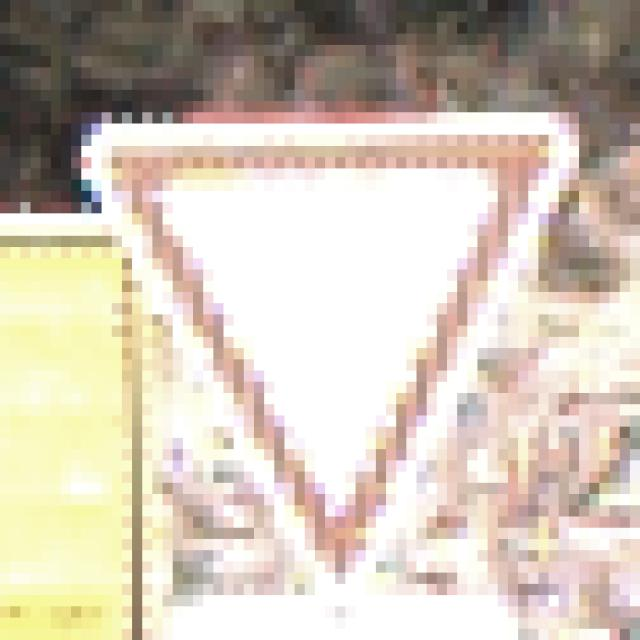Give Way: (52, 68, 590, 585)
